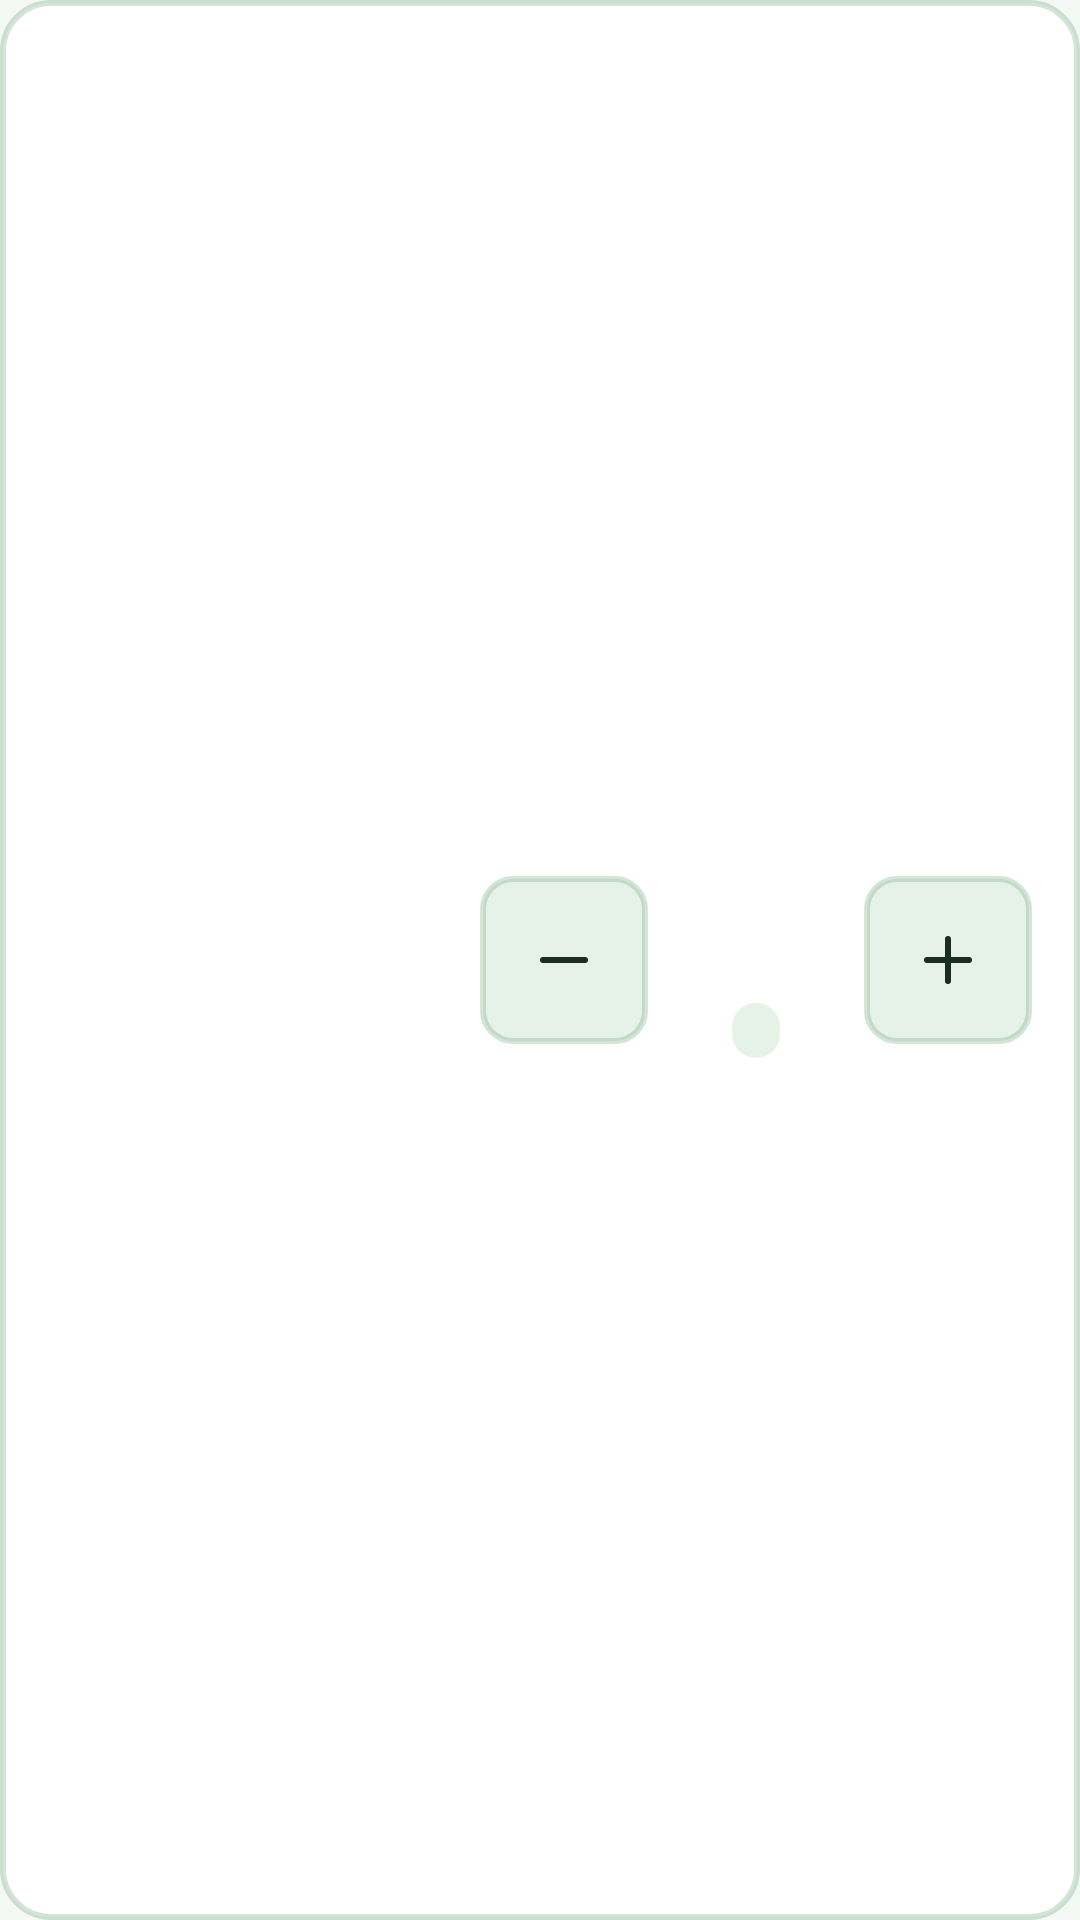

Named icons in this screenshot (1080 x 1920) and their bounding boxes, (x1, y1, x2, y2):
한 타 늘리기: (864, 876, 1032, 1044)
한 타 줄이기: (480, 876, 648, 1044)
